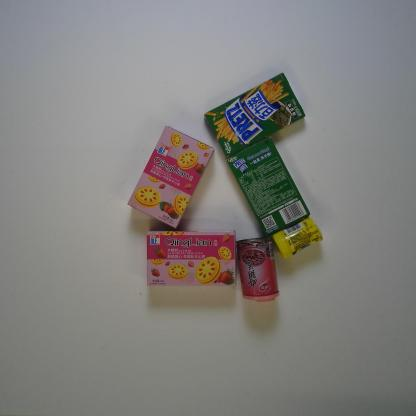Canned Food: (235, 235, 281, 304)
Dessert: (125, 124, 215, 231), (201, 71, 308, 159), (225, 135, 312, 239), (144, 228, 238, 288)
Gum: (272, 216, 324, 263)
